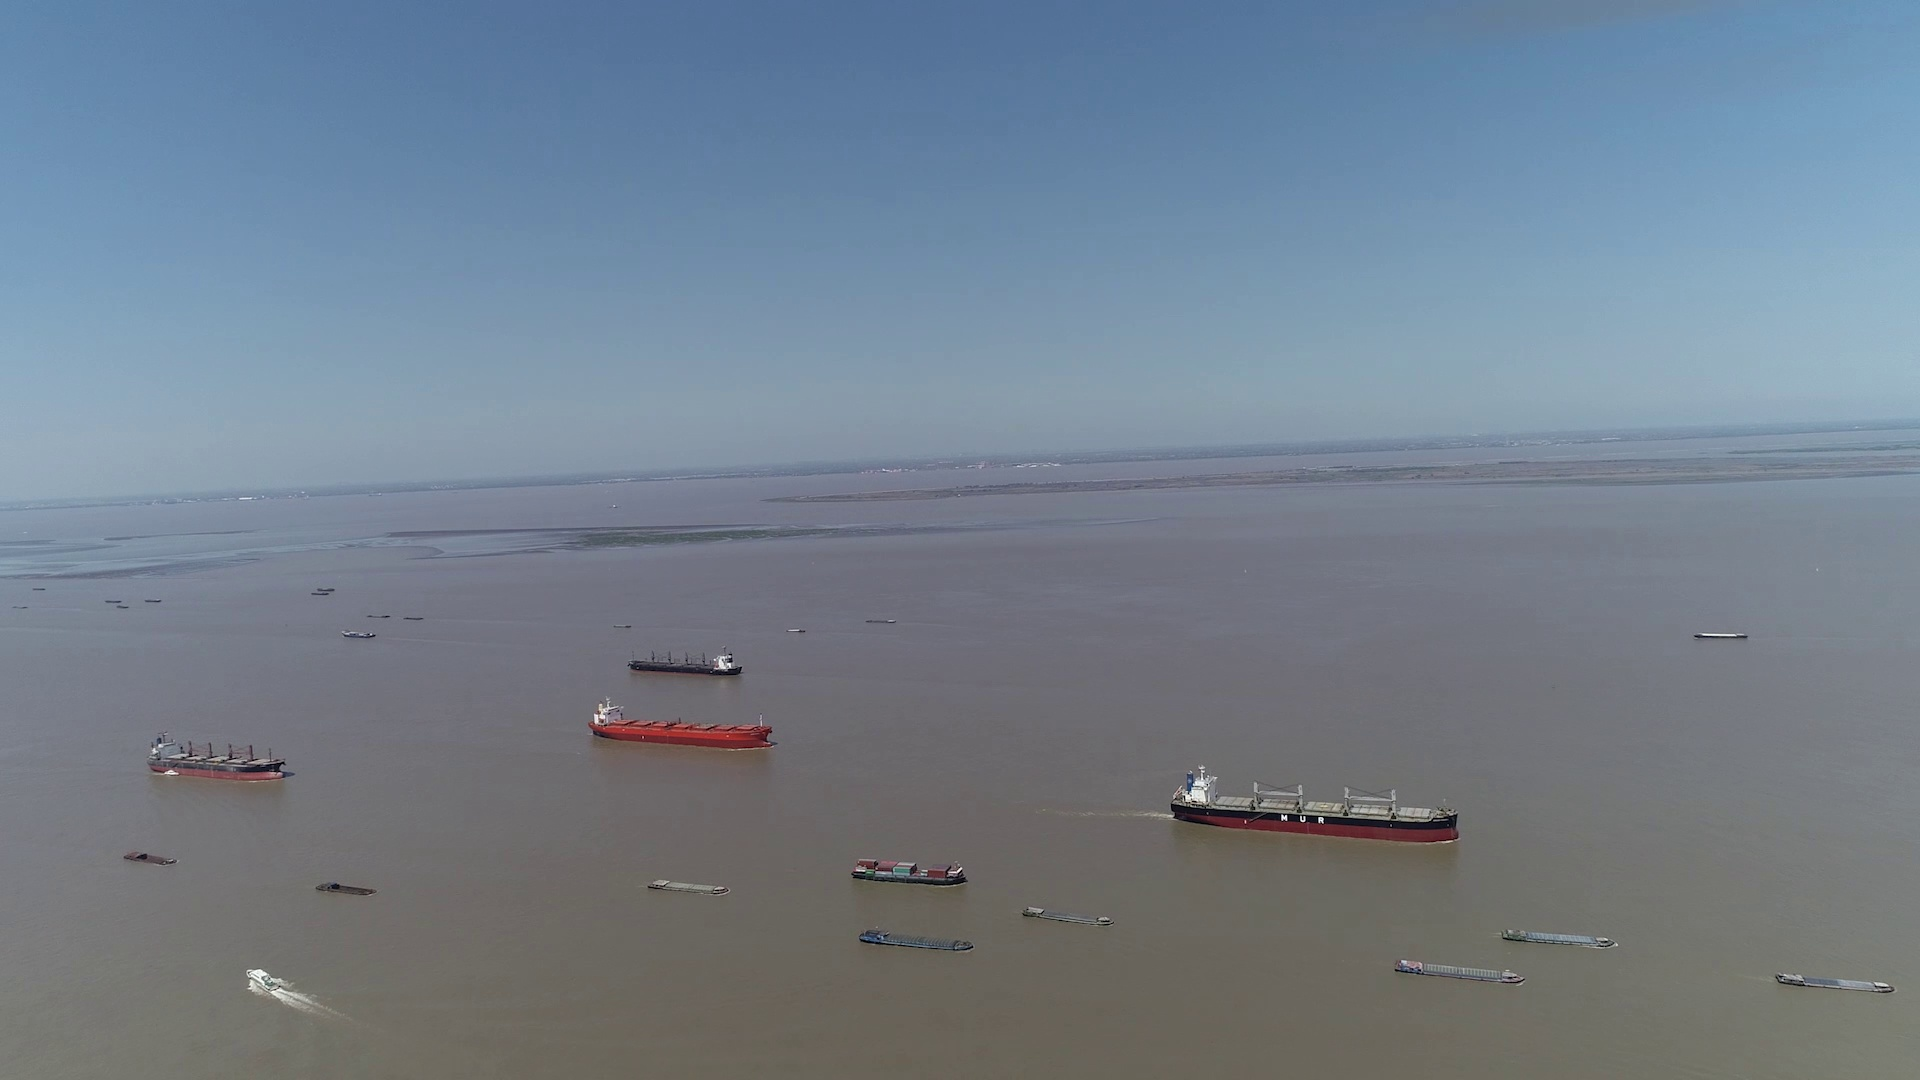ship: (1170, 765, 1462, 843), (589, 698, 771, 748), (152, 731, 287, 782), (1391, 957, 1524, 984), (851, 857, 965, 885), (626, 650, 740, 676), (1774, 971, 1894, 993), (858, 928, 972, 949), (1502, 928, 1613, 948), (1025, 905, 1112, 924), (646, 877, 731, 894), (247, 968, 286, 992), (316, 882, 376, 895), (121, 851, 173, 865), (1696, 632, 1747, 640), (342, 628, 373, 638)
